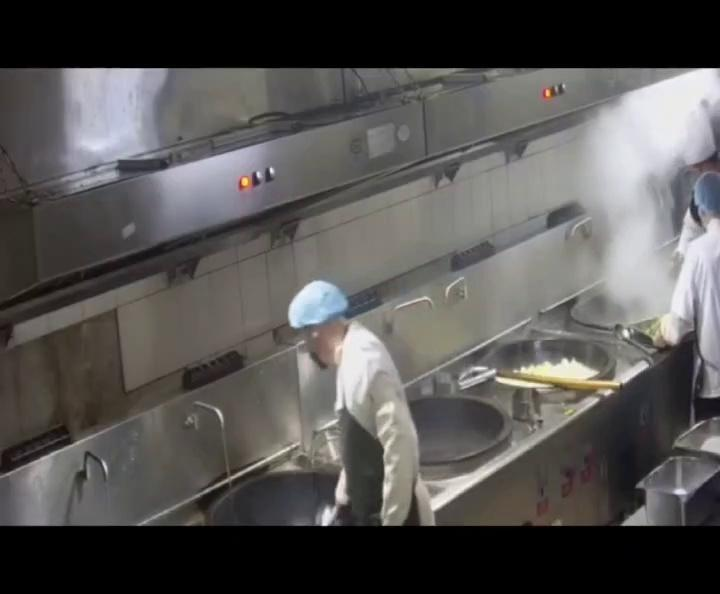gloves: (285, 275, 355, 333)
